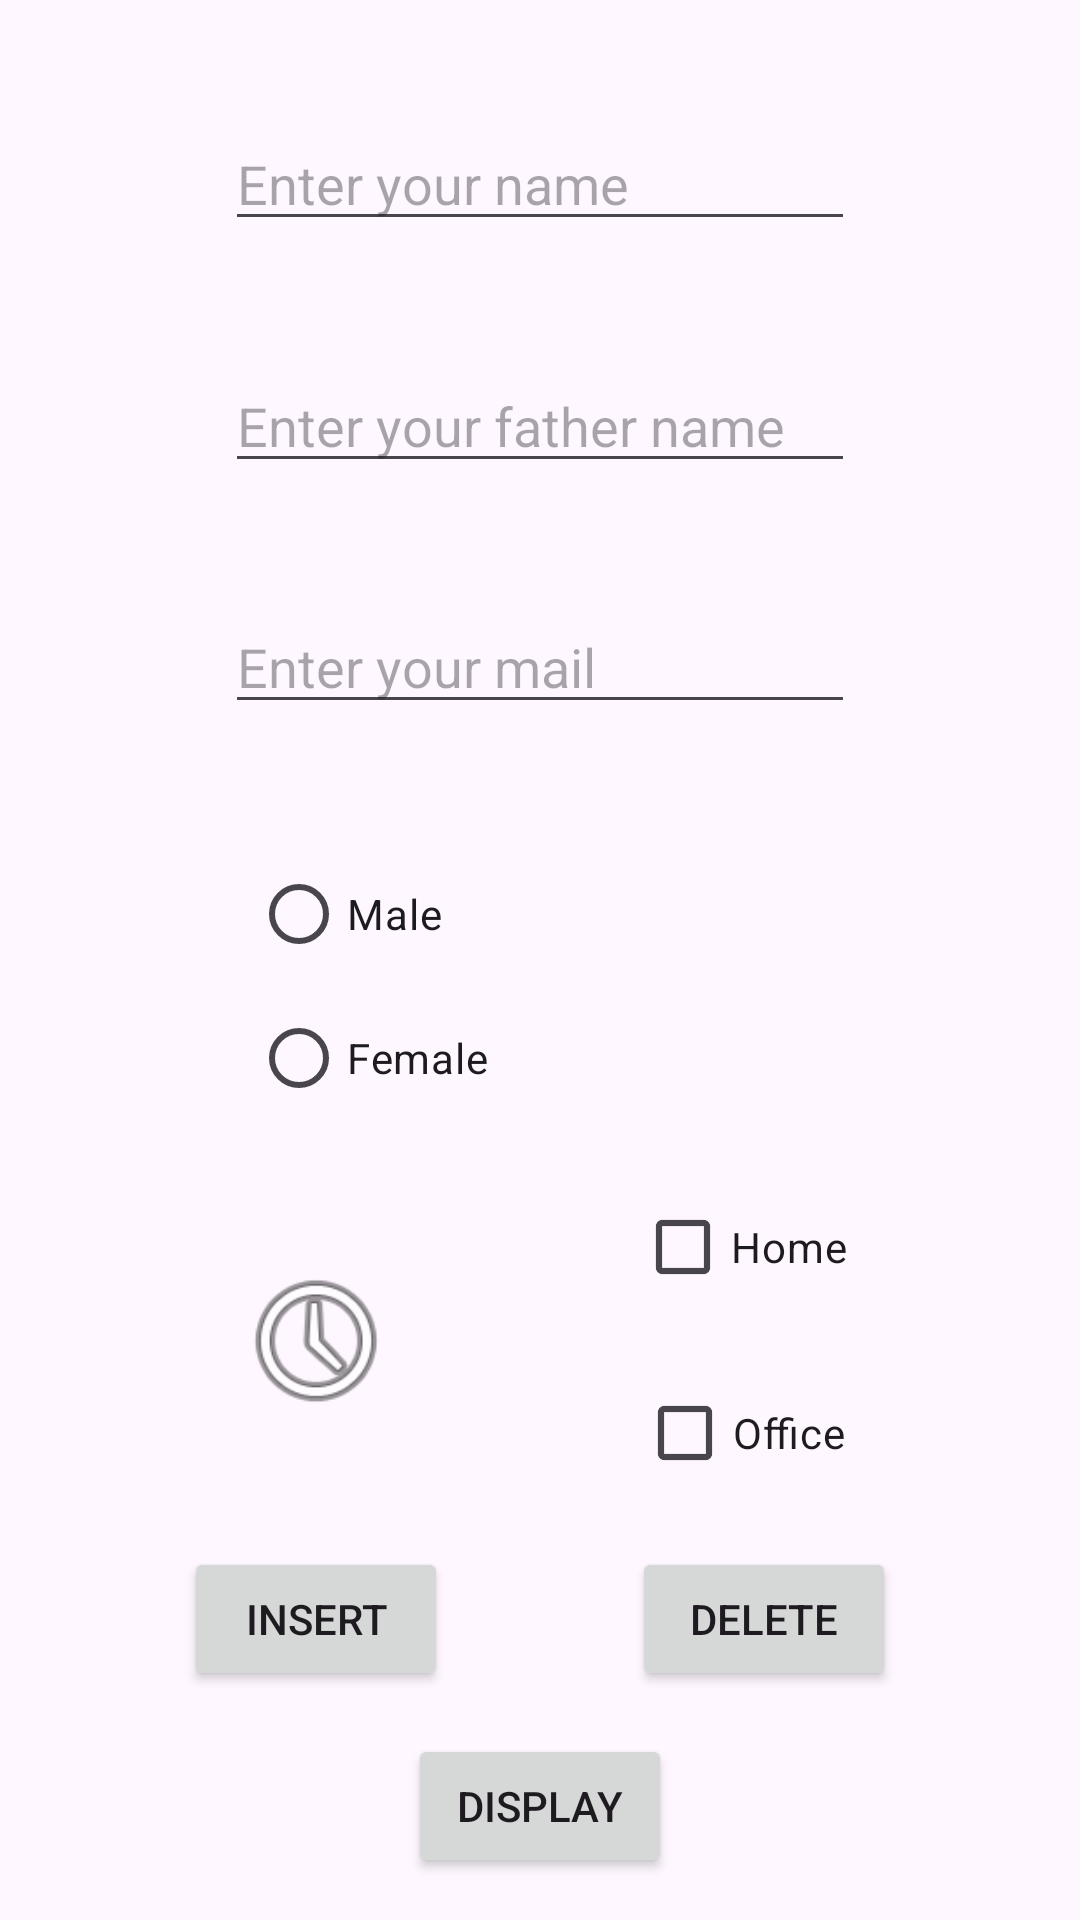

Icons on this 1080 x 1920 Android screen, each with the point to tap as (x,y):
recent history: (316,1341)
